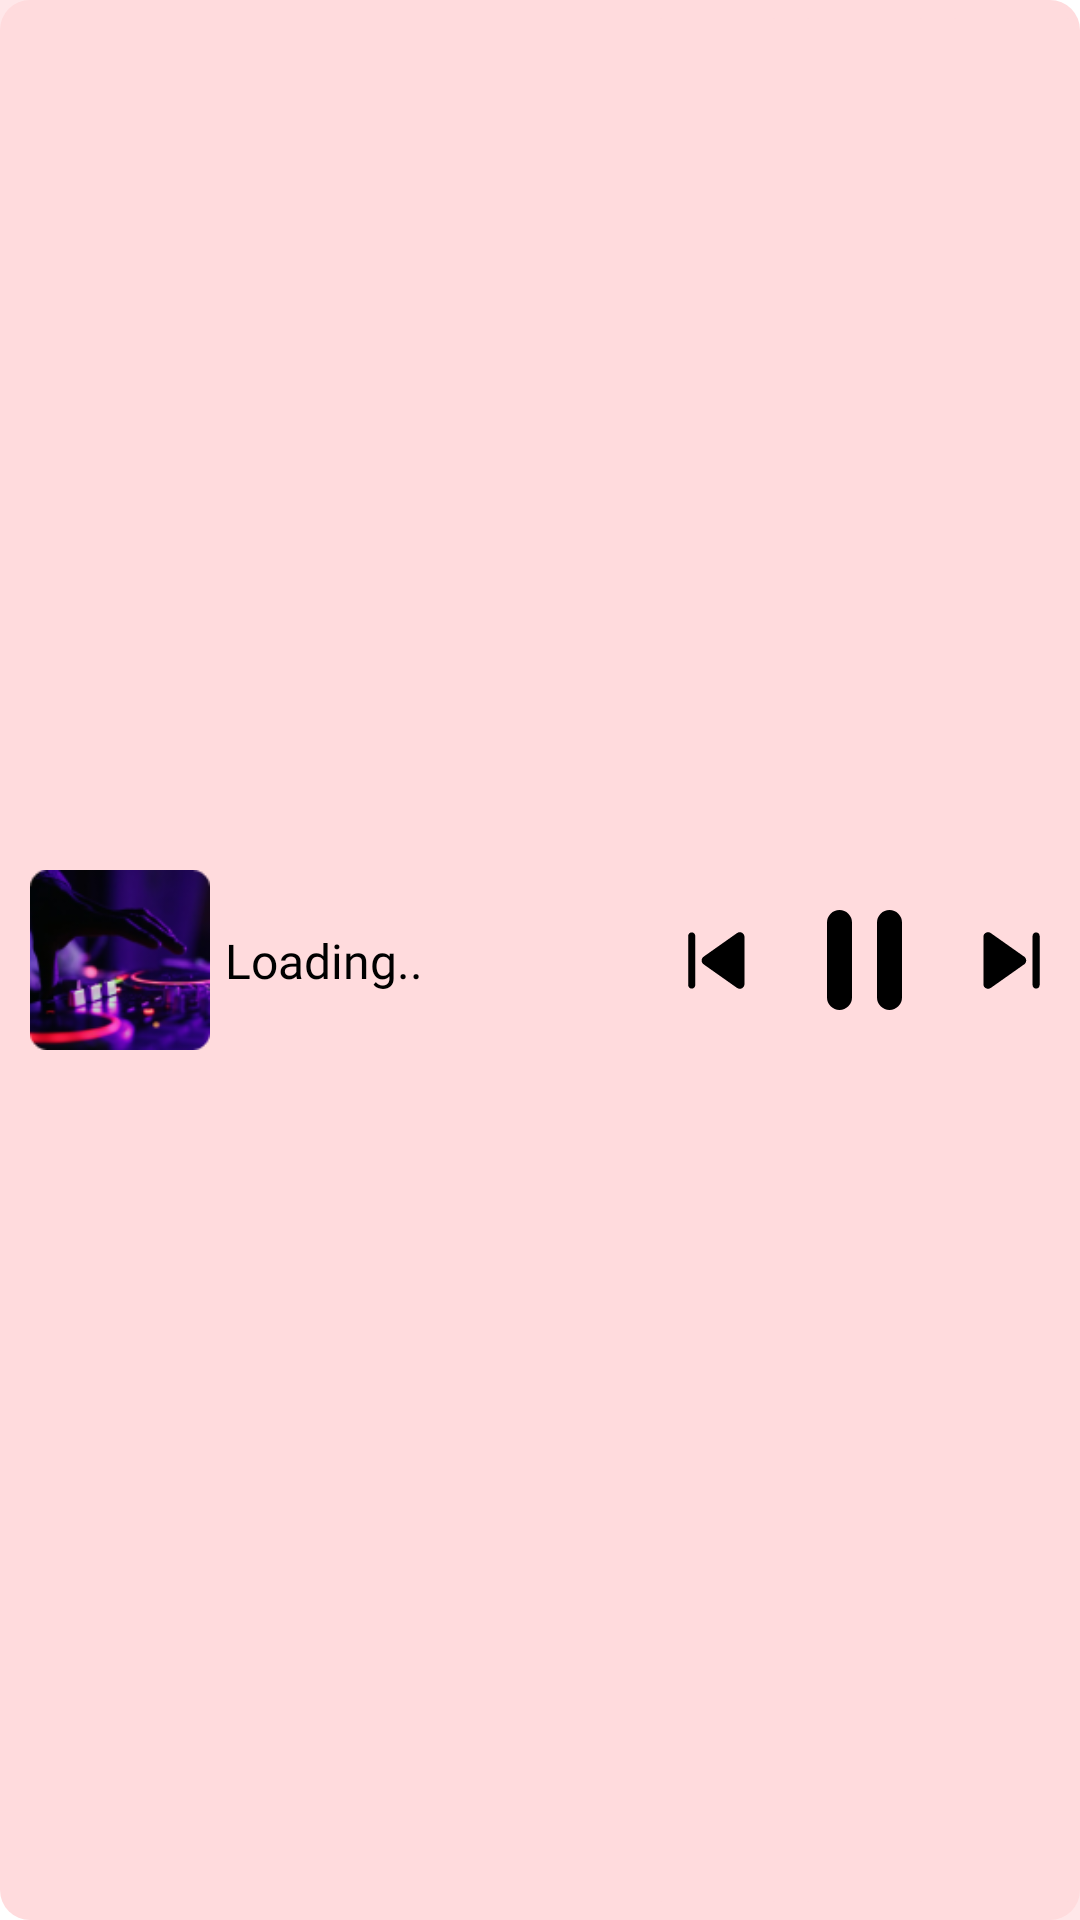

Icons on this 1080×1920 Android screen, each with the point to tap as point (x, y):
Audio Thumbnail: point (120, 960)
backward: point (716, 960)
pause: point (864, 960)
